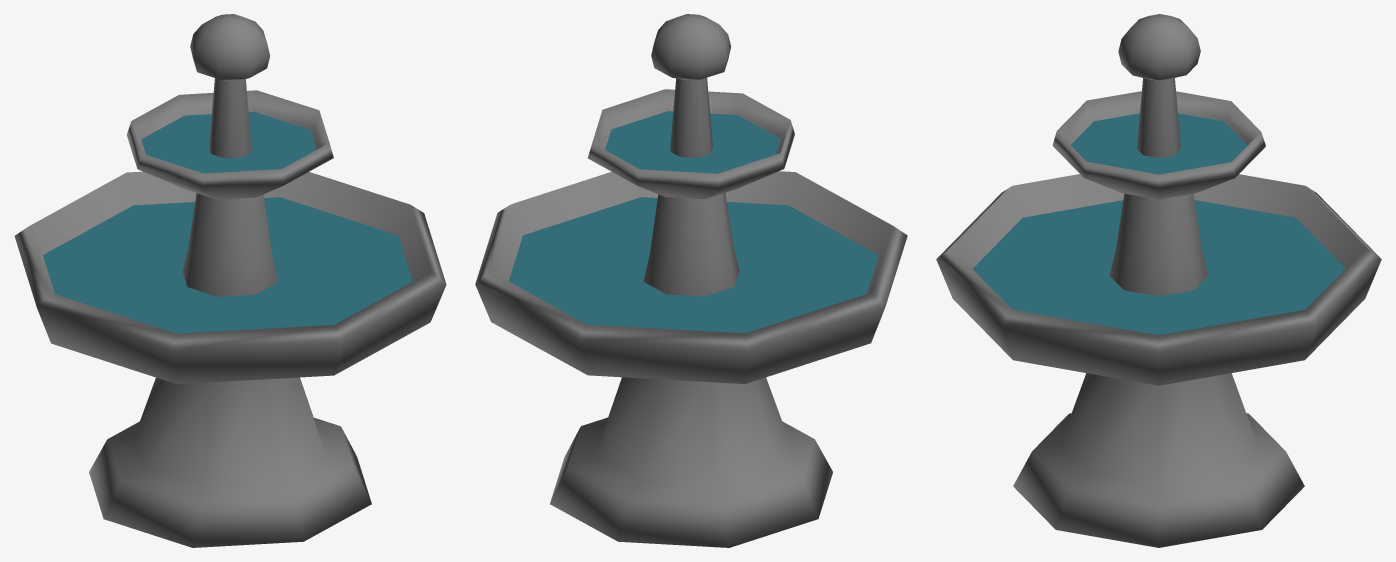
Rendered from TieredFountain.obj.
The picture shows the model from 3 angles, left to right: view 1: azimuth 30°, elevation 25°; view 2: azimuth 150°, elevation 25°; view 3: azimuth 270°, elevation 25°; orthographic projection.
Visible parts, largest first — view 1: Fountain; view 2: Fountain; view 3: Fountain.
Part boxes in pixels (x1,y1,x2,y2): Fountain: (14,14,446,547); Fountain: (475,14,907,547); Fountain: (936,14,1381,547).
Size of the model in its own units: 1.26 by 1.46 by 1.26.
